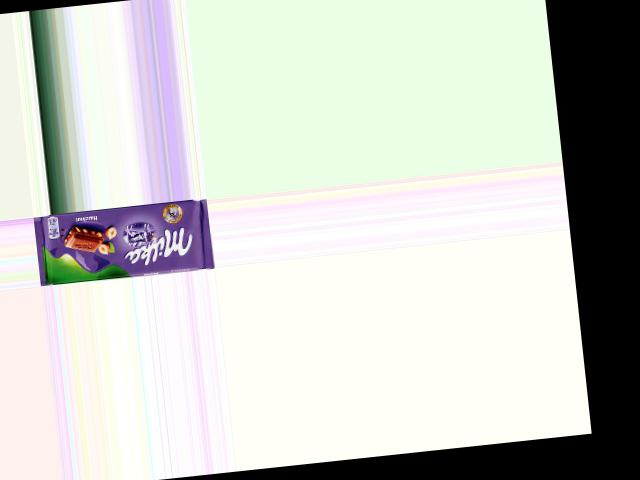chocolate: (32, 197, 214, 286)
